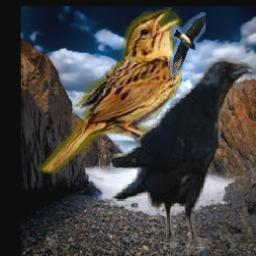Crow: (111, 55, 254, 256)
Sparrow: (38, 8, 183, 174)
Swallow: (170, 13, 206, 78)
